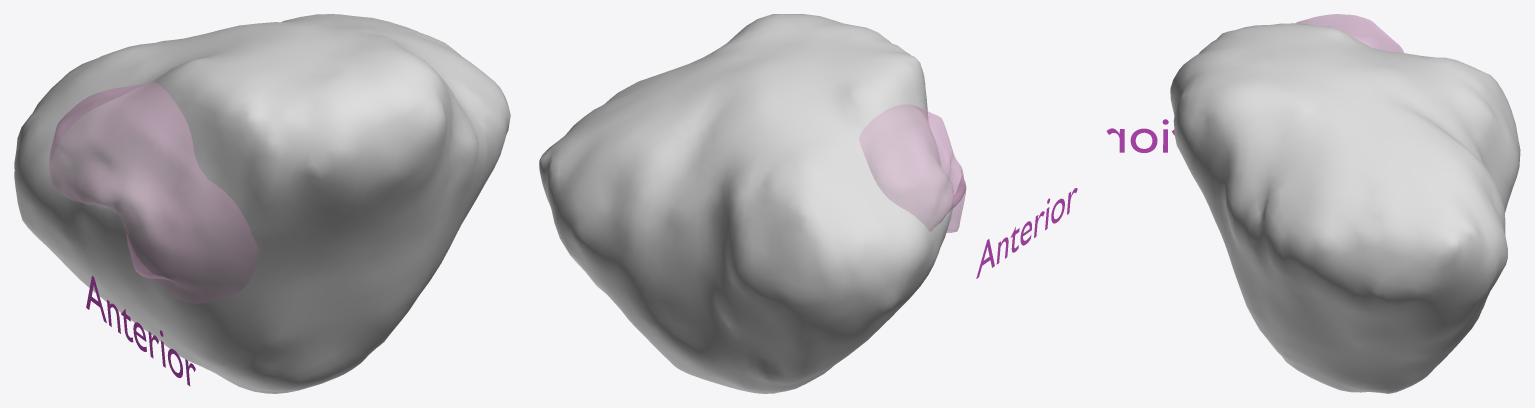
The model's file is labelled_Oct13.glb.
3 views of the same model, side by side, from view 1: azimuth 30°, elevation 25°; view 2: azimuth 150°, elevation 25°; view 3: azimuth 270°, elevation 25° (orthographic). The views are drawn at different scales.
Visible parts, largest first — view 1: ProstateMRIPPMF17smoothed2Fixed, TumourSUV4, Text; view 2: ProstateMRIPPMF17smoothed2Fixed, TumourSUV4, Text; view 3: ProstateMRIPPMF17smoothed2Fixed, TumourSUV4, Text.
Boxes of the visible parts, bbox=[...] form: ProstateMRIPPMF17smoothed2Fixed: bbox=[14, 14, 510, 393]; TumourSUV4: bbox=[49, 83, 258, 303]; Text: bbox=[86, 276, 195, 386]; ProstateMRIPPMF17smoothed2Fixed: bbox=[539, 14, 953, 393]; TumourSUV4: bbox=[859, 104, 966, 232]; Text: bbox=[976, 188, 1077, 278]; ProstateMRIPPMF17smoothed2Fixed: bbox=[1170, 23, 1520, 393]; TumourSUV4: bbox=[1295, 14, 1403, 52]; Text: bbox=[1106, 119, 1174, 152].
Size of the model in its own units: 7.84 by 6.36 by 7.4.
